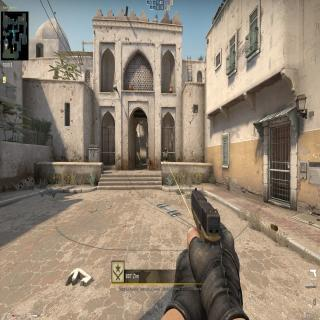CT-Head: (165, 148, 168, 152)
